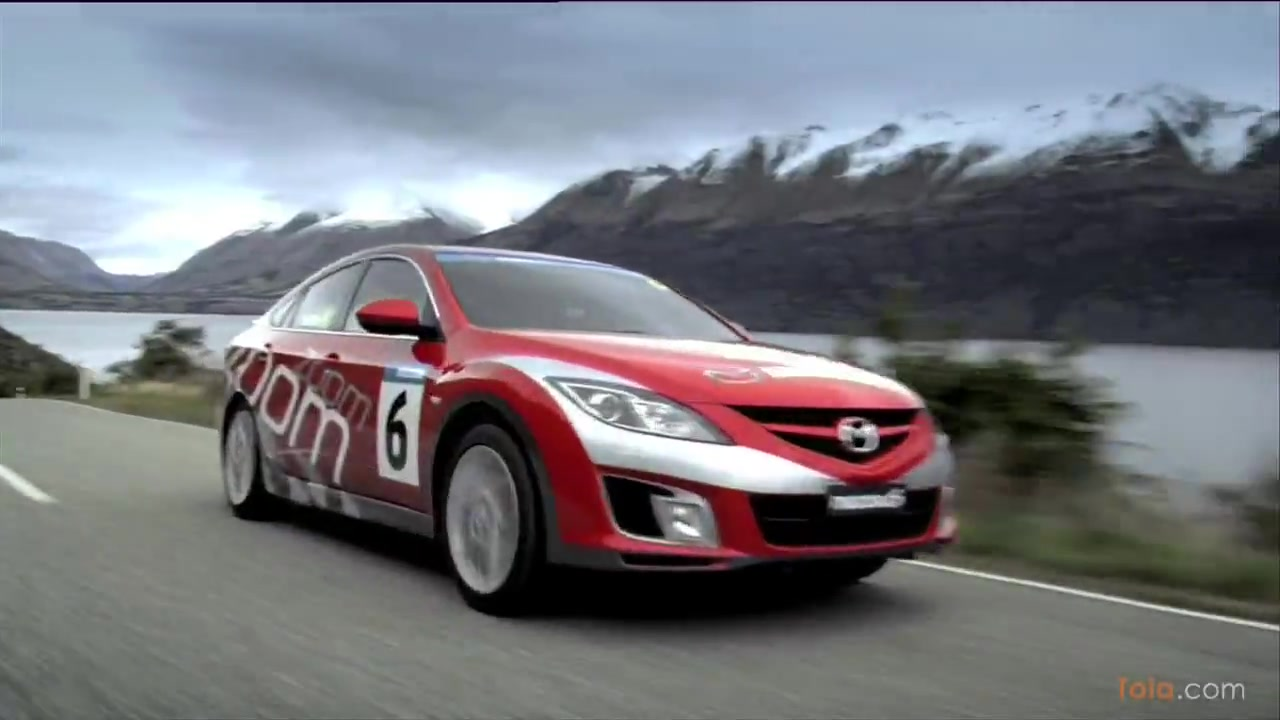car: (214, 236, 964, 621)
